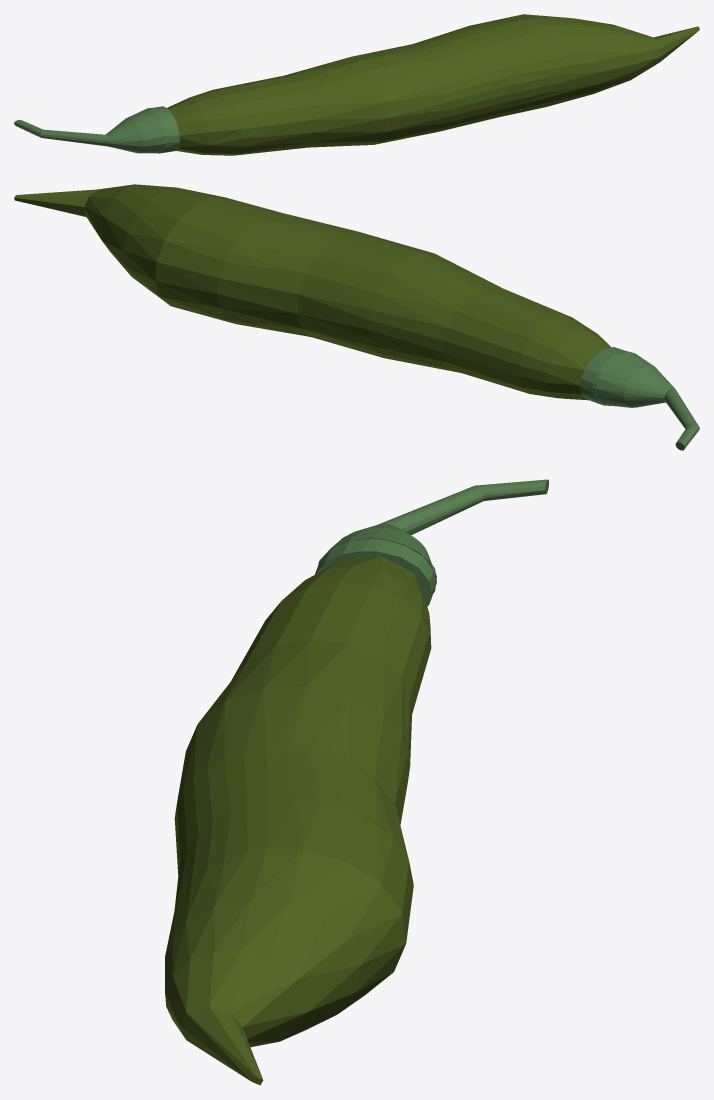
The model's file is BeanPod.obj.
The picture shows the model from 3 angles, top to bottom: view 1: azimuth 30°, elevation 25°; view 2: azimuth 150°, elevation 25°; view 3: azimuth 270°, elevation 25°; orthographic projection. The views are drawn at different scales.
Visible parts, largest first — view 1: fruit, sepal; view 2: fruit, sepal; view 3: fruit, sepal.
Boxes of the visible parts, x1,y1,x2,y2 form: fruit: (167, 14, 699, 155); sepal: (14, 106, 179, 153); fruit: (14, 184, 610, 400); sepal: (580, 347, 699, 450); fruit: (165, 556, 431, 1085); sepal: (314, 479, 548, 606).
Bounding box in the file's own units: 1 × 0.126 × 0.2728.
